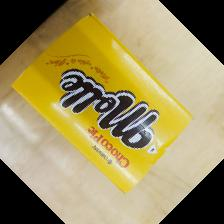Molle: (9, 10, 195, 195)
